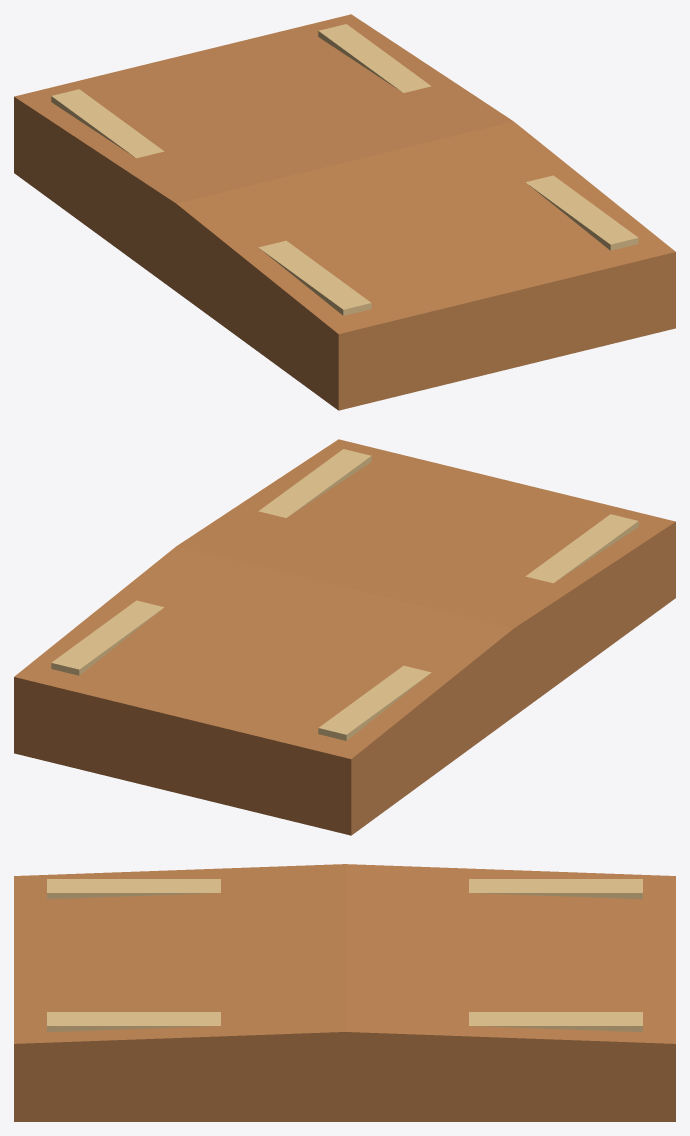
Rendered from plank_1_10.glb.
3 renders of one model, top to bottom at view 1: azimuth 30°, elevation 25°; view 2: azimuth 150°, elevation 25°; view 3: azimuth 270°, elevation 25°, orthographic.
Parts seen in each view (by area): view 1: plank; view 2: plank; view 3: plank.
Boxes of the visible parts, x1,y1,x2,y2 form: plank: (14,14,675,410); plank: (14,439,675,835); plank: (14,864,675,1121).
Size of the model in its own units: 0.024 by 0.006 by 0.04.
